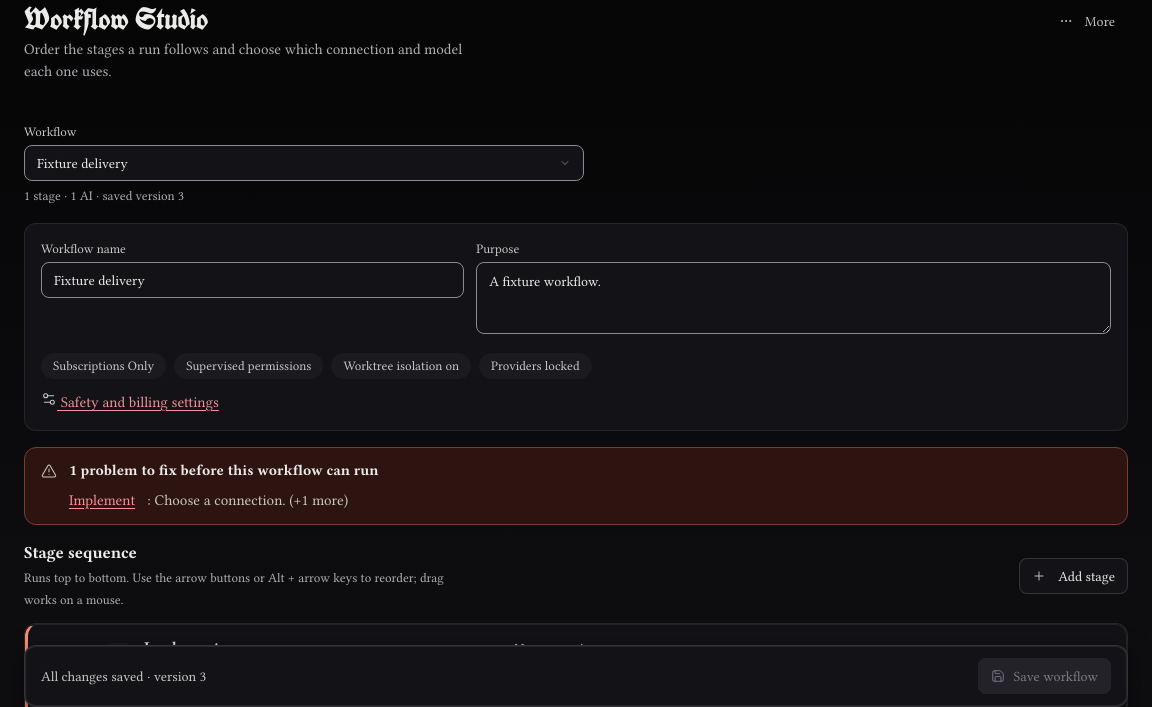
Scenario: prerequisites › setting a cap does not change the billing mode, and the billing fix is a separate explicit action
Click the heading "Add stage". click: (1074, 576)
box: [1019,558,1128,594]
(page scrolled)
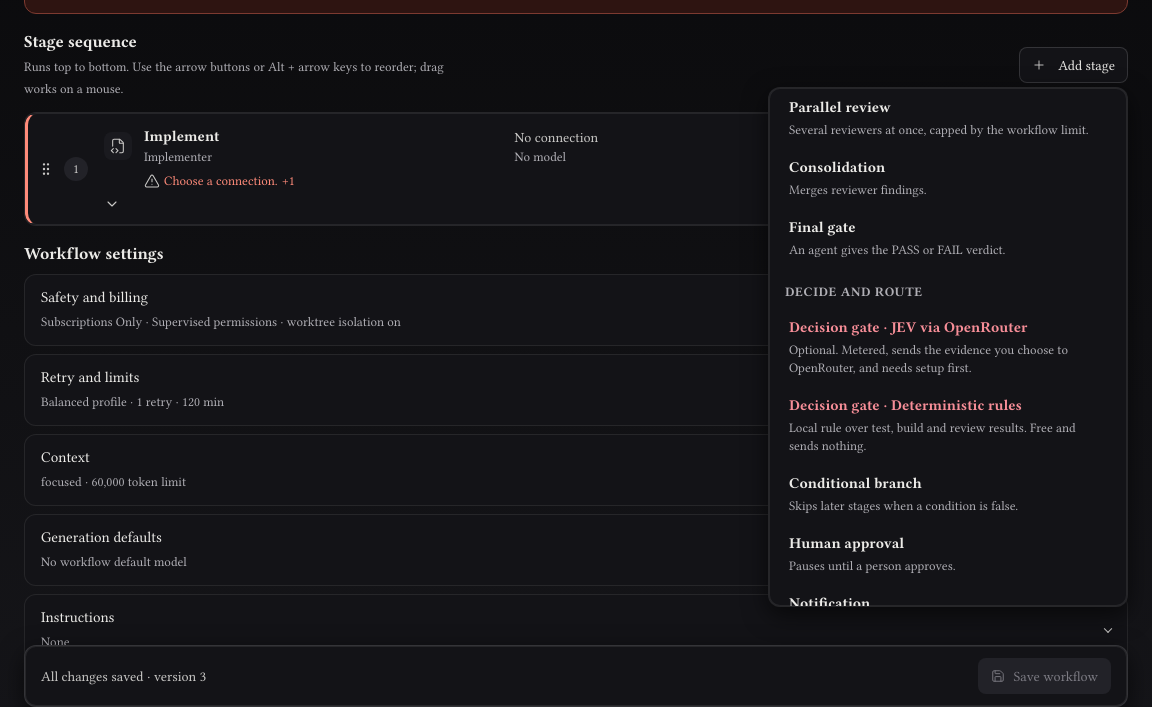
Click the button "JEV via OpenRouter". click: (948, 347)
box: [777,309,1119,385]
(page scrolled)
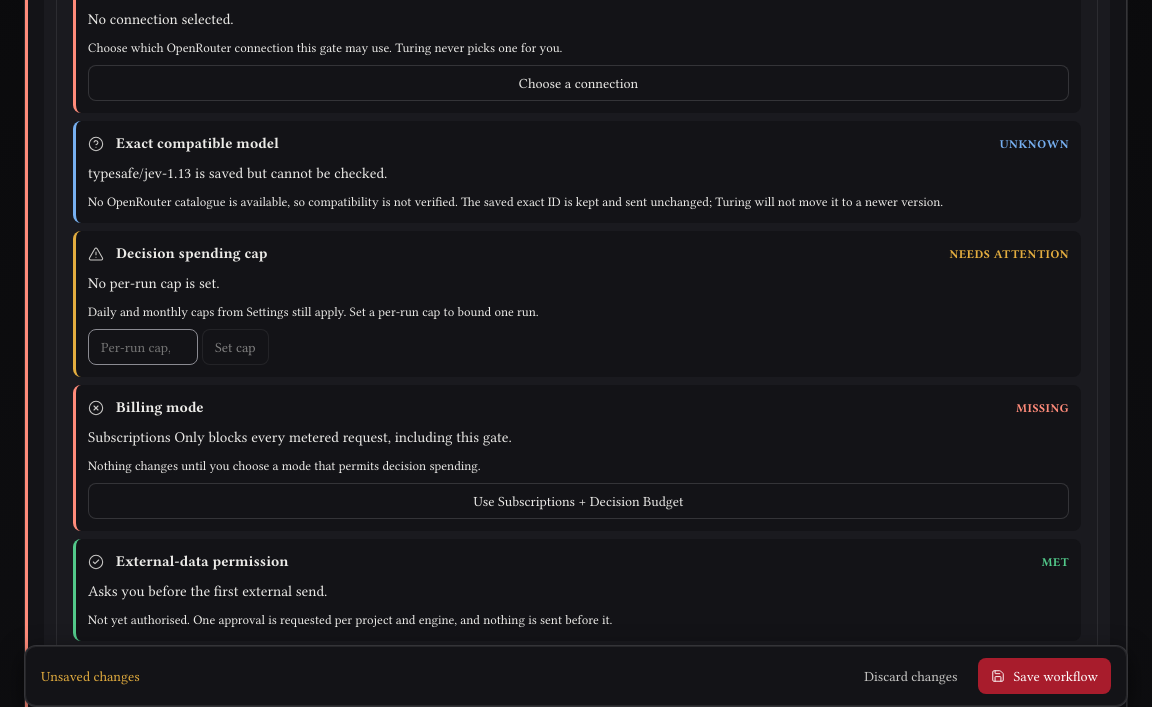
Type "0.25" into the number field named "Per-run cap in US dollars". click: (143, 347)
box: [88,329,198,365]
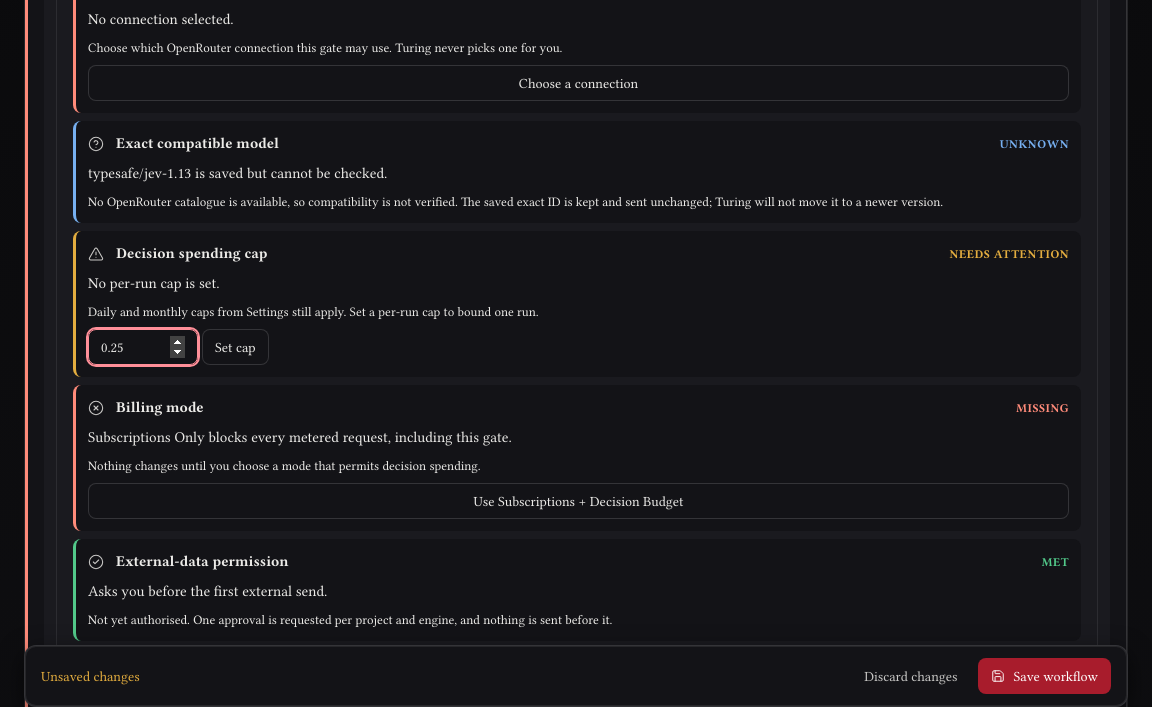
Click the button "Set cap". click: (235, 347)
box: [202,329,269,365]
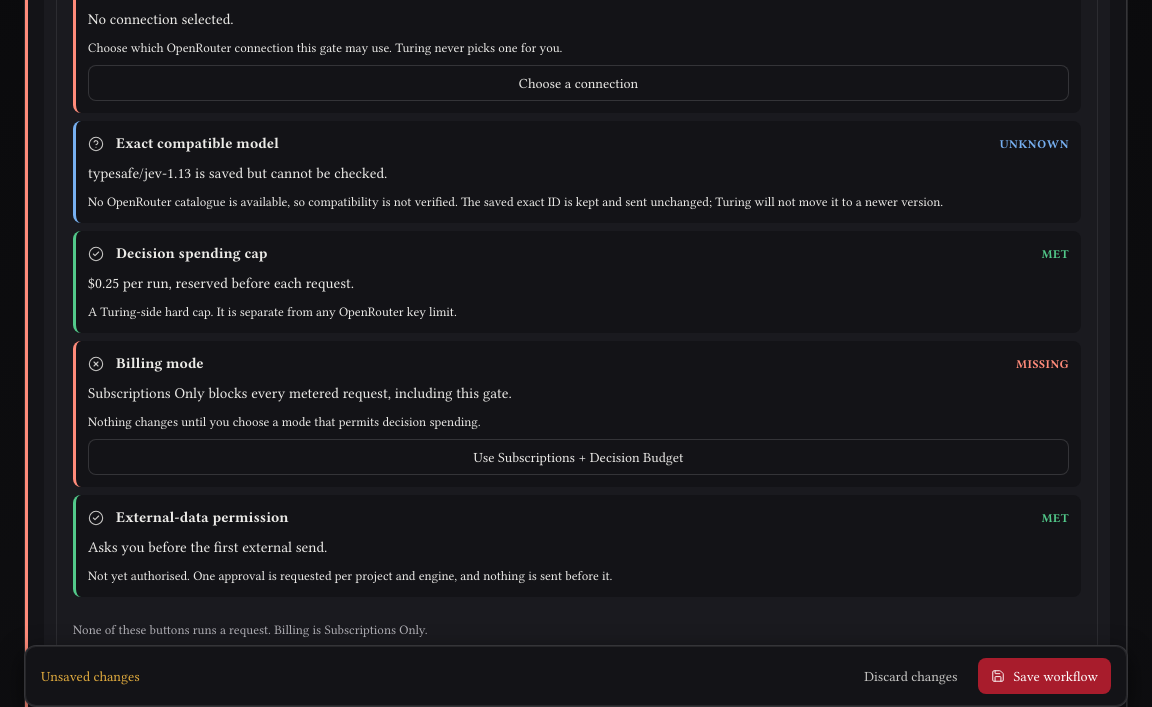
Now the 2nd text "Missing" is shown, box [1016,353,1069,375]
Click the button "Use Subscriptions + Decision Budget". click: (578, 457)
box: [88,439,1069,475]
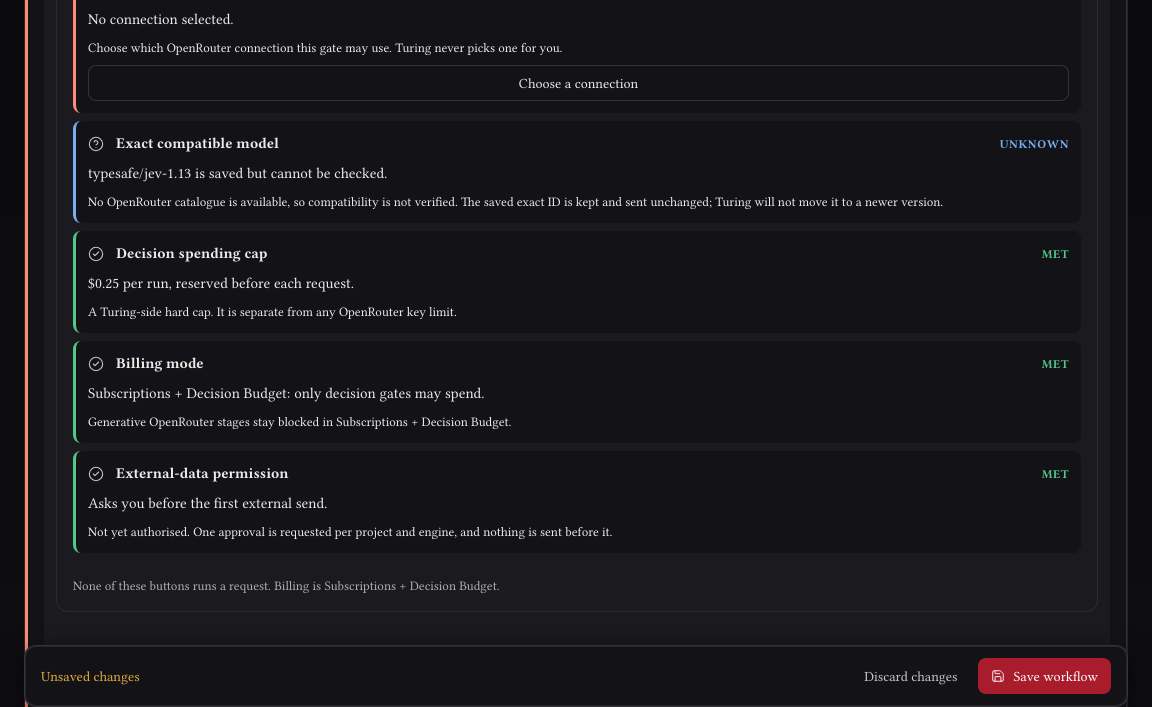
Now the text "Met" in the row of "Billing mode" is shown, box [1042,357,1069,371]
